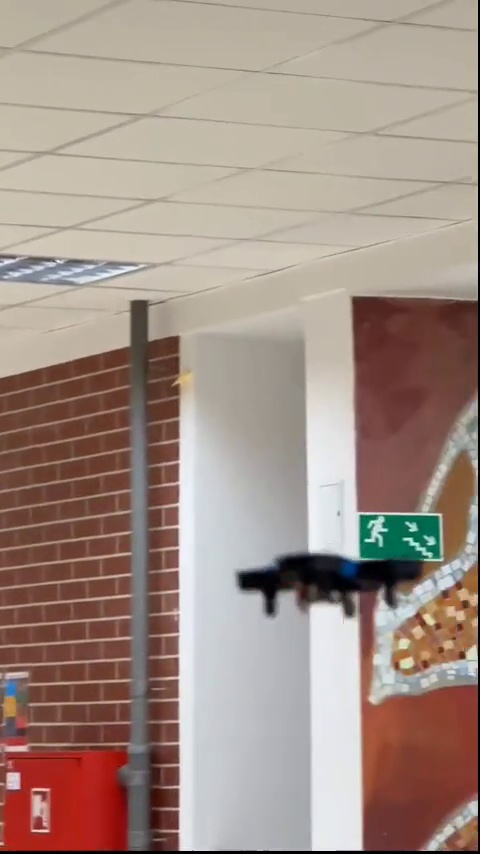drone: (236, 550, 422, 616)
